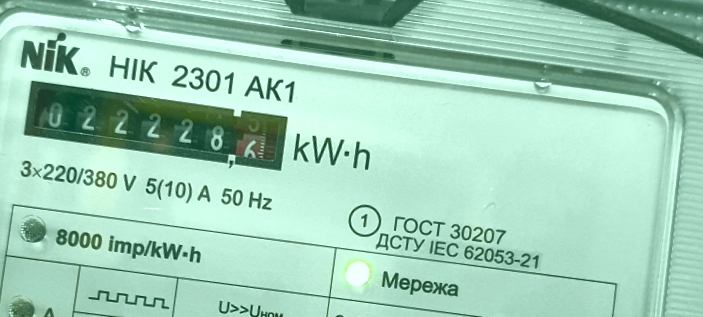0: (44, 98, 64, 129)
2: (77, 100, 100, 132), (176, 115, 197, 146), (143, 109, 164, 139), (111, 105, 131, 136)
5: (244, 112, 262, 134)
6: (241, 135, 260, 158)
8: (207, 122, 226, 152)
screen: (14, 67, 299, 180)
